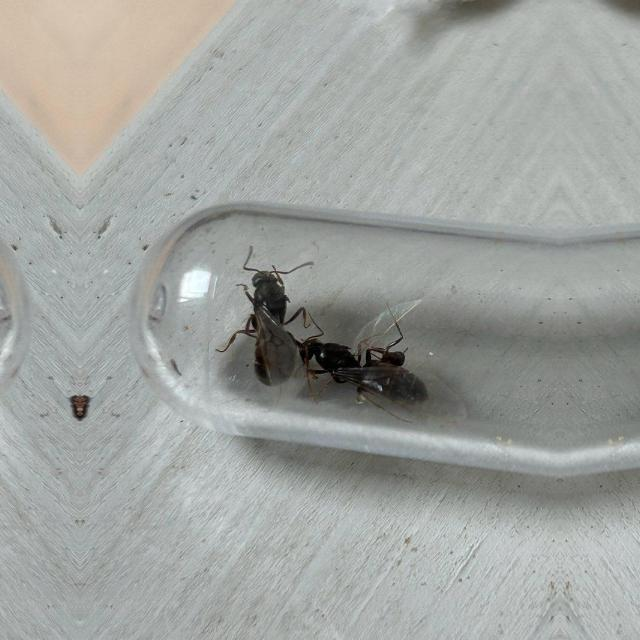Lasius: (232, 240, 310, 396), (298, 316, 420, 414), (358, 321, 422, 374)
